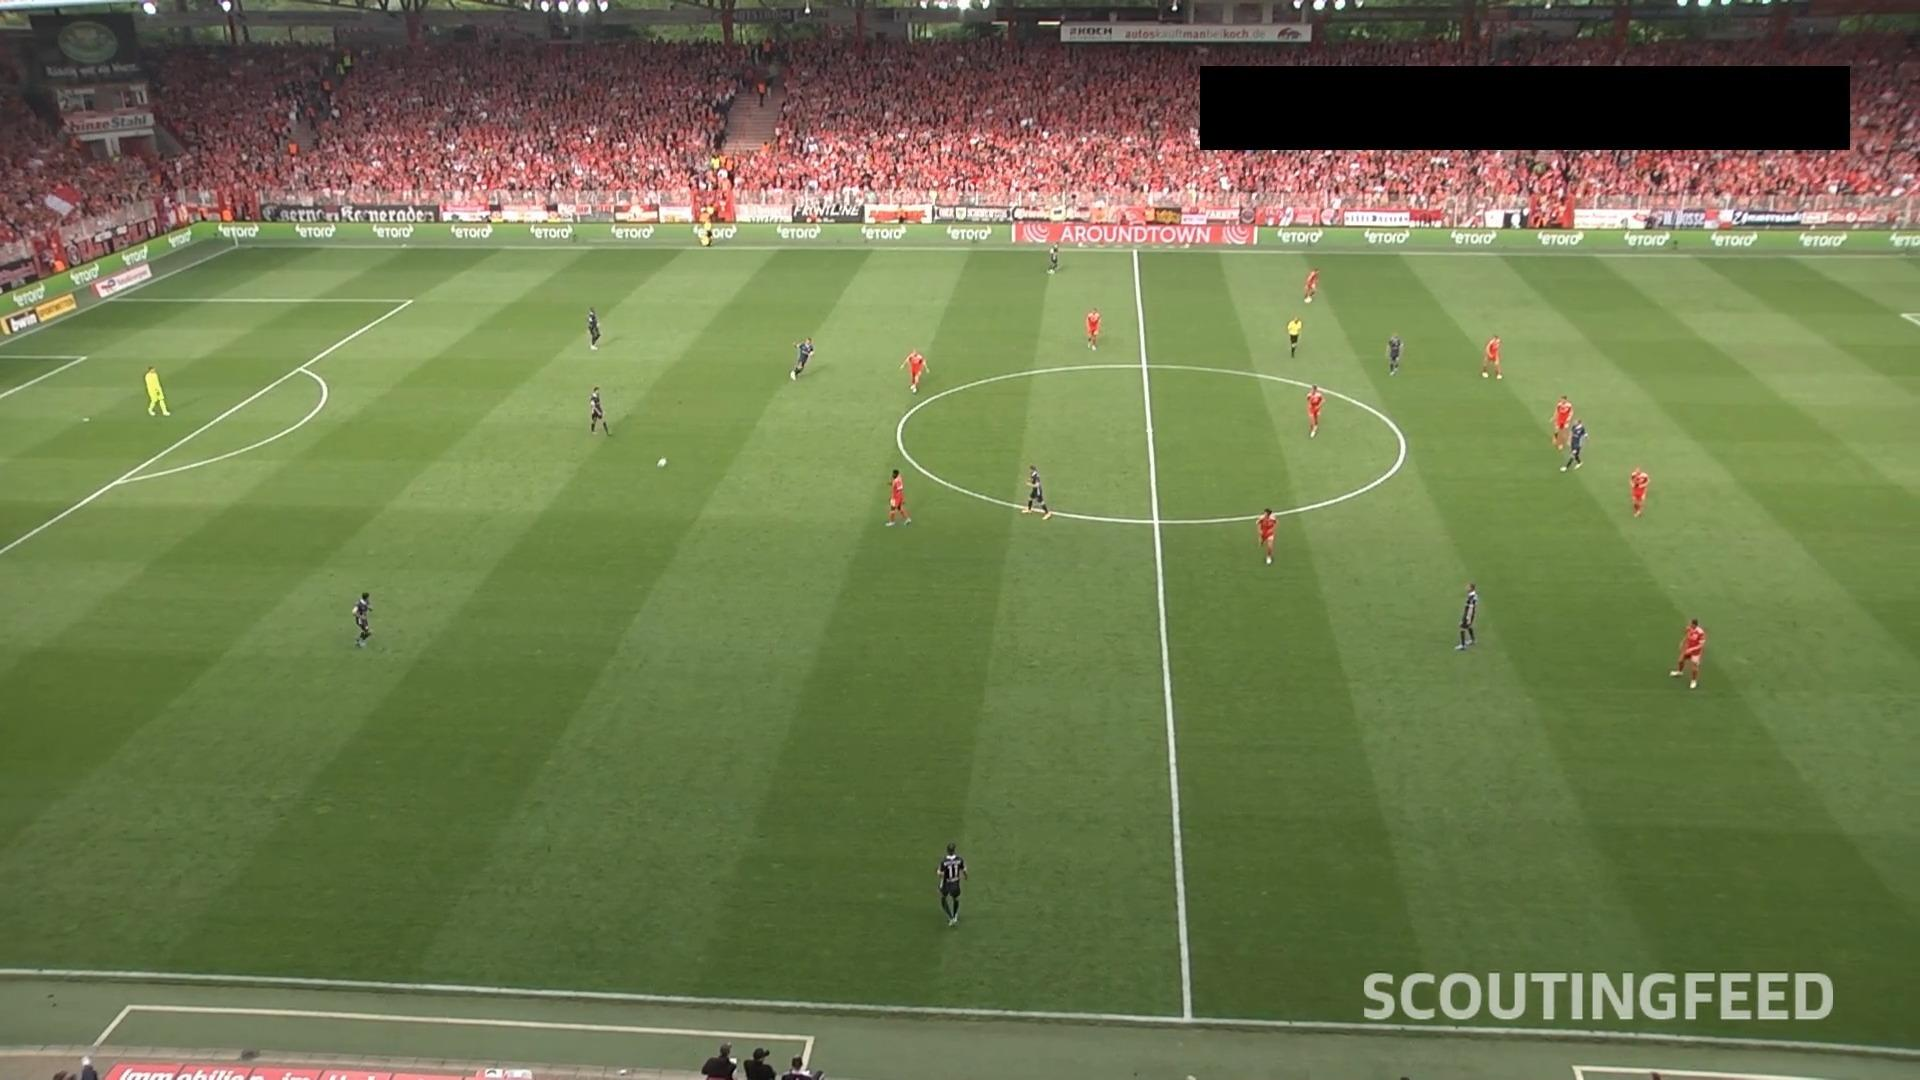ball: (655, 456, 667, 469)
